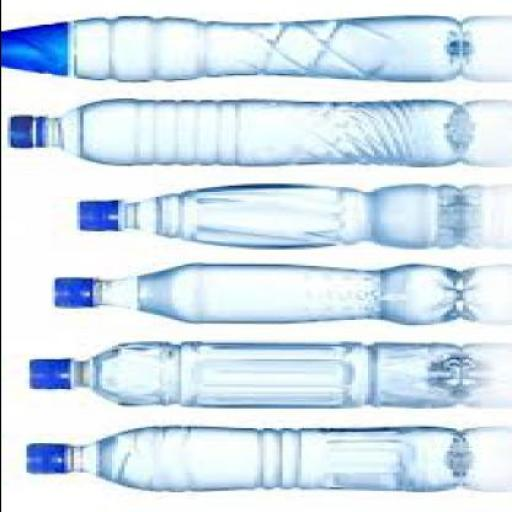plastic: (1, 17, 462, 85), (3, 102, 465, 168), (22, 428, 464, 494), (25, 344, 461, 408), (72, 185, 458, 252), (50, 265, 458, 327), (2, 22, 66, 80), (48, 279, 95, 311), (22, 360, 69, 392), (3, 116, 45, 151), (22, 446, 67, 476), (72, 201, 114, 233)
